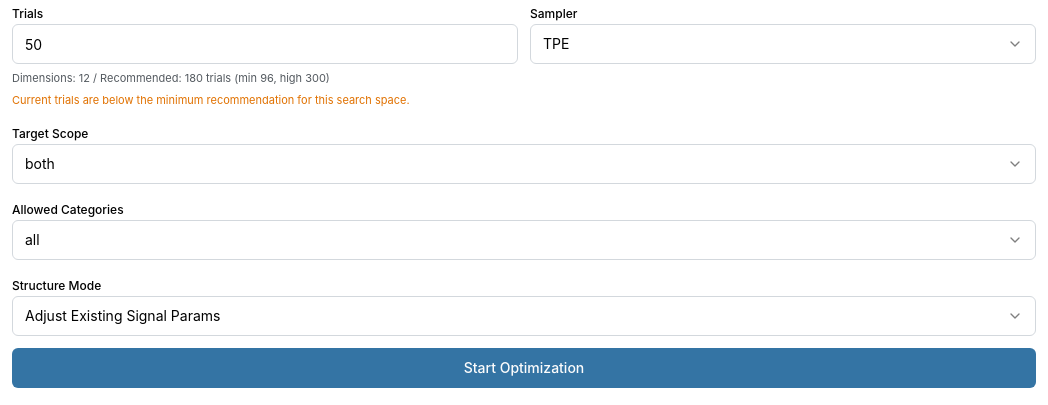
Test case: LabOptimizeForm › shows recommendation summary and warning when trials are below minimum
Expected: the text "Dimensions: 12 / Recommended: 180 trials (min 96, high 300)" is shown, [12,71,330,85]
Expected: the text "Current trials are below the minimum recommendation for this search space." is shown, [12,93,410,107]
Step 1. Replace the text in the number field labelled "Trials" with "120" → (265, 44), box [12,24,518,64]
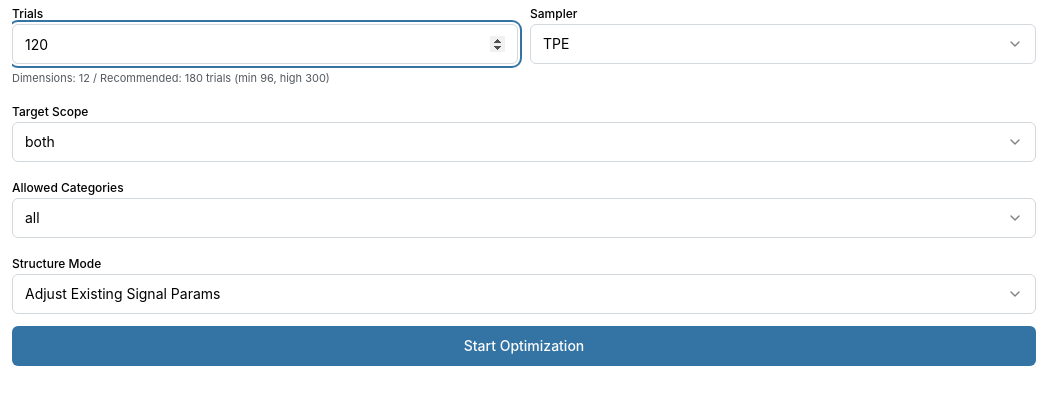
Result: the text "Current trials are below the minimum recommendation for this search space." is gone
